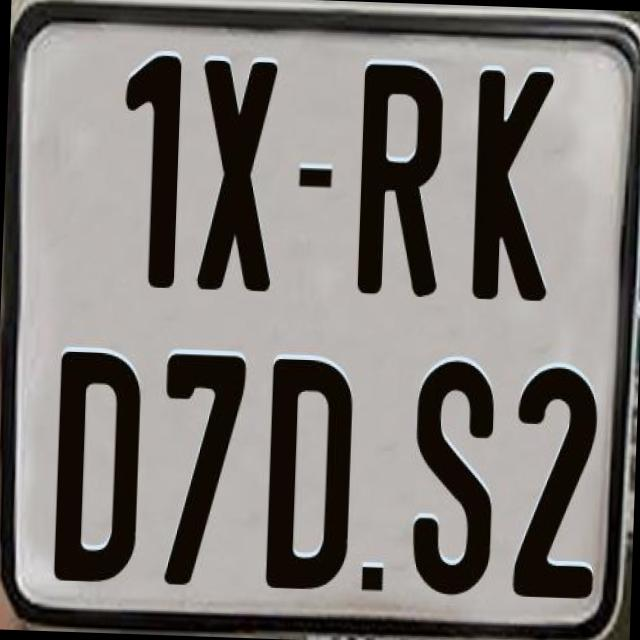1: (116, 53, 180, 290)
2: (508, 366, 602, 600)
7: (158, 352, 245, 586)
D: (52, 348, 146, 581), (264, 358, 352, 598)
K: (472, 68, 562, 301)
R: (353, 59, 440, 300)
S: (409, 354, 496, 594)
X: (195, 54, 282, 294)
